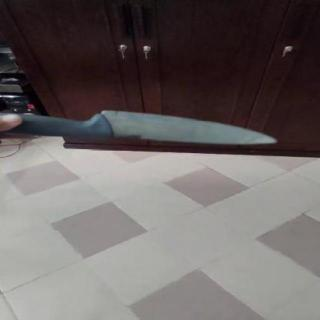knife: (90, 82, 287, 166)
